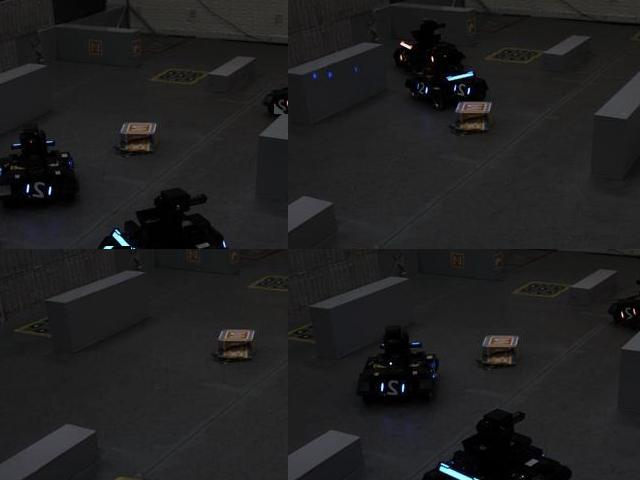armor: (20, 178, 57, 203), (376, 376, 412, 400), (616, 302, 639, 326), (449, 82, 478, 101), (410, 78, 432, 97), (274, 91, 287, 116), (396, 51, 411, 68)
